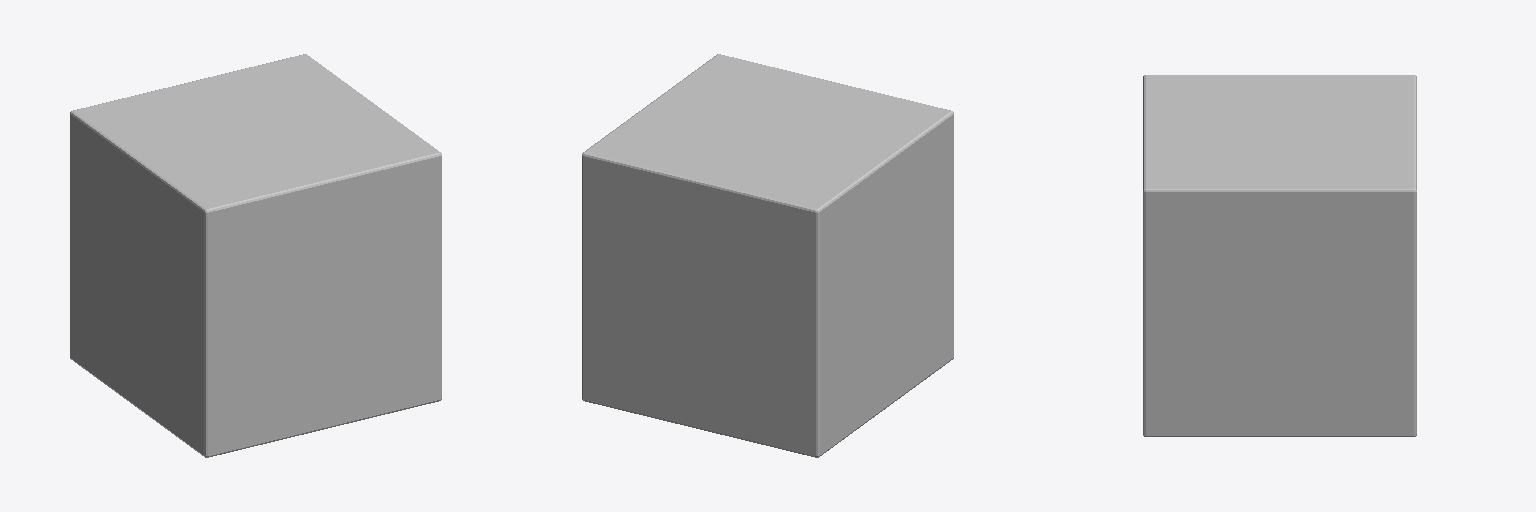
File: Block5SQUARE.obj
3 renders of one model, left to right at view 1: azimuth 30°, elevation 25°; view 2: azimuth 150°, elevation 25°; view 3: azimuth 270°, elevation 25°, orthographic.
Parts seen in each view (by area): view 1: pCube2; view 2: pCube2; view 3: pCube2.
Part boxes in pixels (left/top/right/bottom): pCube2: left=70, top=54, right=441, bottom=457; pCube2: left=582, top=54, right=953, bottom=457; pCube2: left=1143, top=75, right=1416, bottom=436.
Bounding box in the file's own units: 200 × 200 × 200.